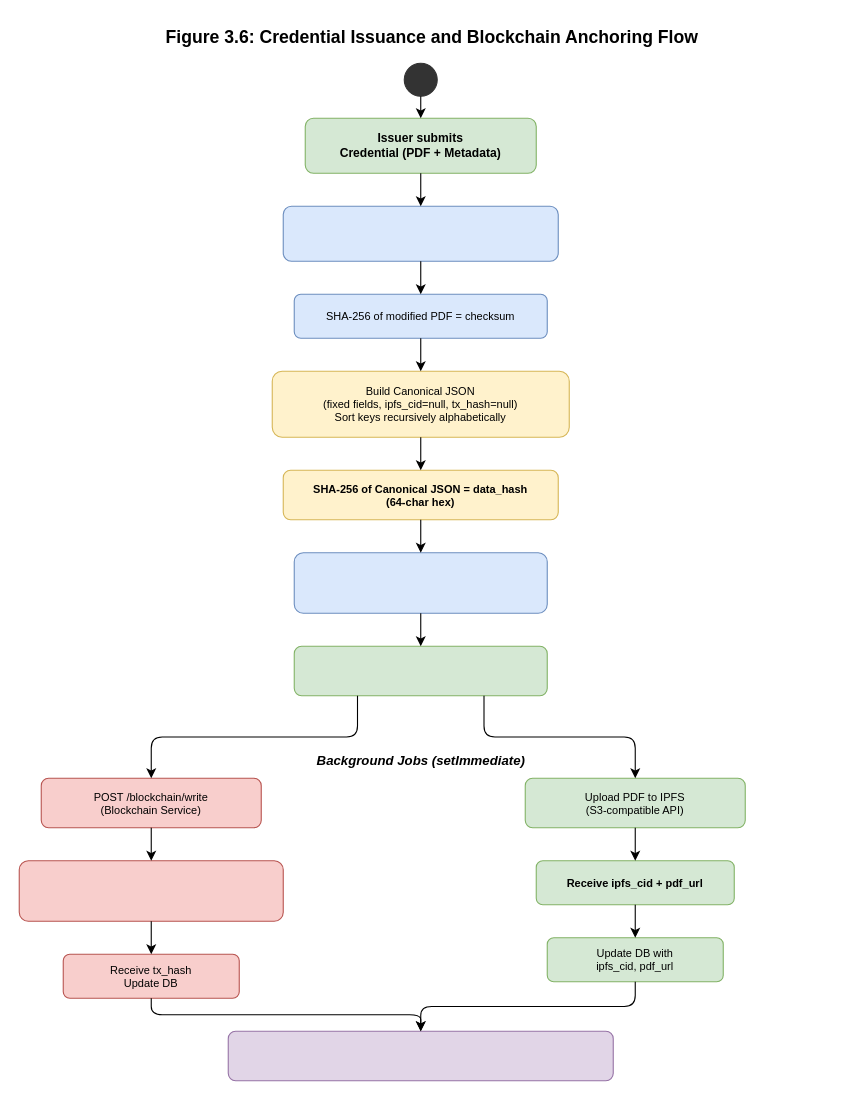
Image size: 864x1100. Some labels were removed from this diagram. The centre of each missing label's shape, as x and y in pixels:
Credential Fully Anchored (blockchain_status: confirmed, ipfs_status: stored): the point at 420,1055
Generate credential_id (UUID v4) Embed in PDF Keywords using pdf-lib: the point at 420,233
Return HTTP Response (Immediate - user does not wait): the point at 420,670
Save to PostgreSQL blockchain_status: pending ipfs_status: pending: the point at 420,582
Smart Contract: issueCredential( credential_id, dataHash, ipfsCid): the point at 150,890
